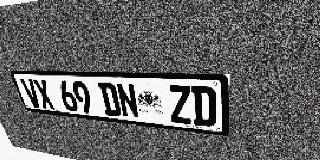6: (56, 80, 80, 112)
9: (70, 81, 95, 114)
D: (191, 86, 216, 127), (97, 82, 122, 117)
N: (115, 83, 140, 119)
V: (20, 79, 43, 108)
X: (32, 79, 56, 110)
Z: (168, 85, 193, 125)
